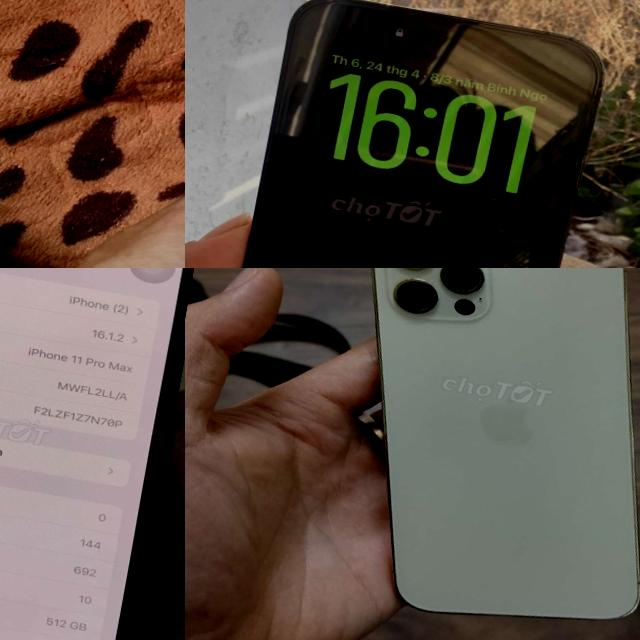gen_11: (0, 268, 185, 640)
gen_12_13: (309, 268, 640, 640)
gen_14: (204, 0, 607, 268)
